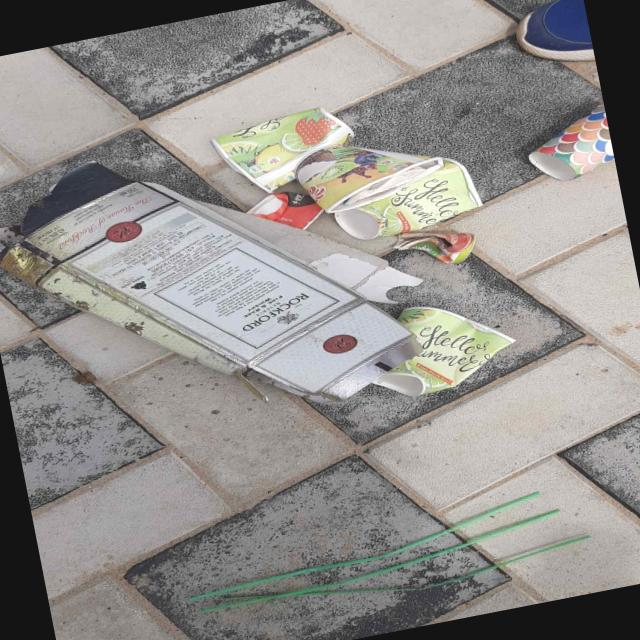ly_hop_giay: (0, 184, 421, 403), (373, 307, 514, 397), (334, 158, 482, 240), (211, 107, 353, 191), (297, 146, 444, 212), (529, 101, 615, 180)
